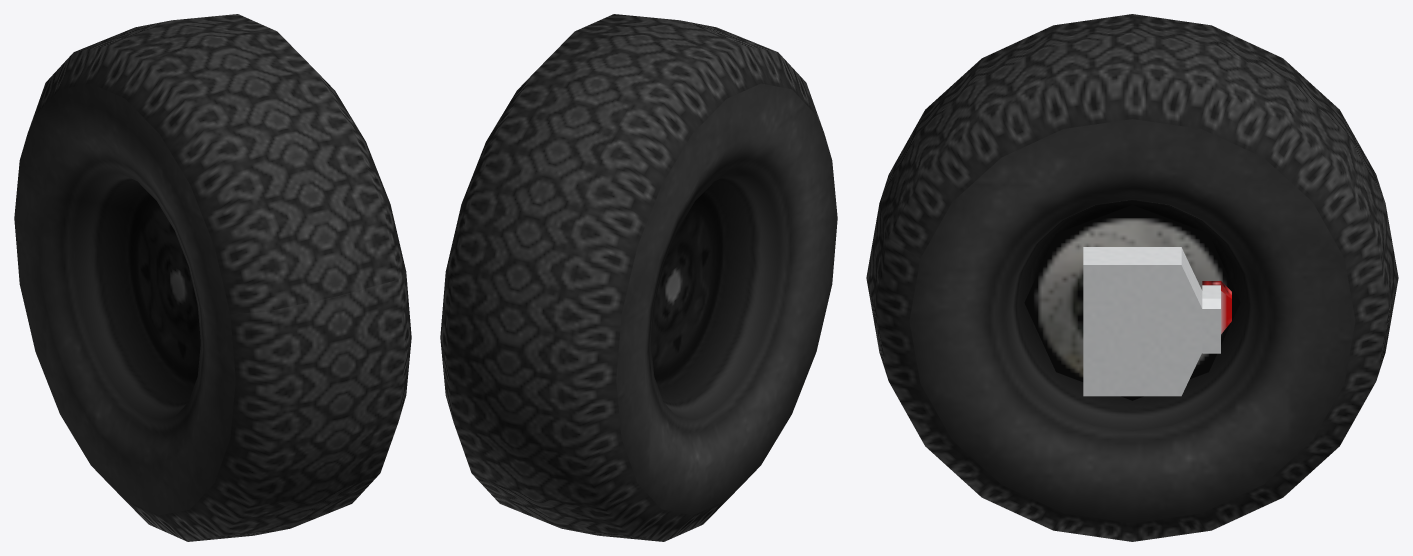
File: polaris_front_wheel_left.dae
3 views of the same model, side by side, from view 1: azimuth 30°, elevation 25°; view 2: azimuth 150°, elevation 25°; view 3: azimuth 270°, elevation 25° (orthographic).
Parts seen in each view (by area): view 1: Front_Wheel_Left; view 2: Front_Wheel_Left; view 3: Front_Wheel_Left.
Part boxes in pixels (x1=…): Front_Wheel_Left: x1=14, y1=14, x2=411, y2=541; Front_Wheel_Left: x1=440, y1=14, x2=837, y2=541; Front_Wheel_Left: x1=866, y1=14, x2=1398, y2=541.
Size of the model in its own units: 11.07 by 25.77 by 25.77.
1 material, 1 textured.
